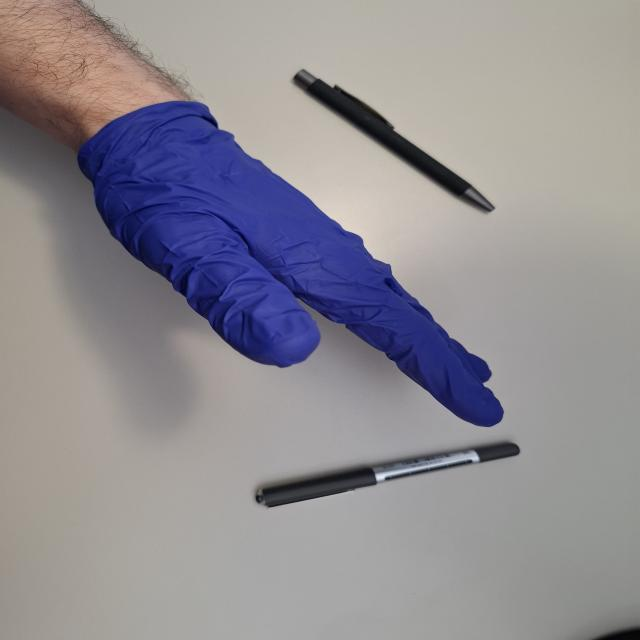glove_on: (72, 92, 510, 433)
